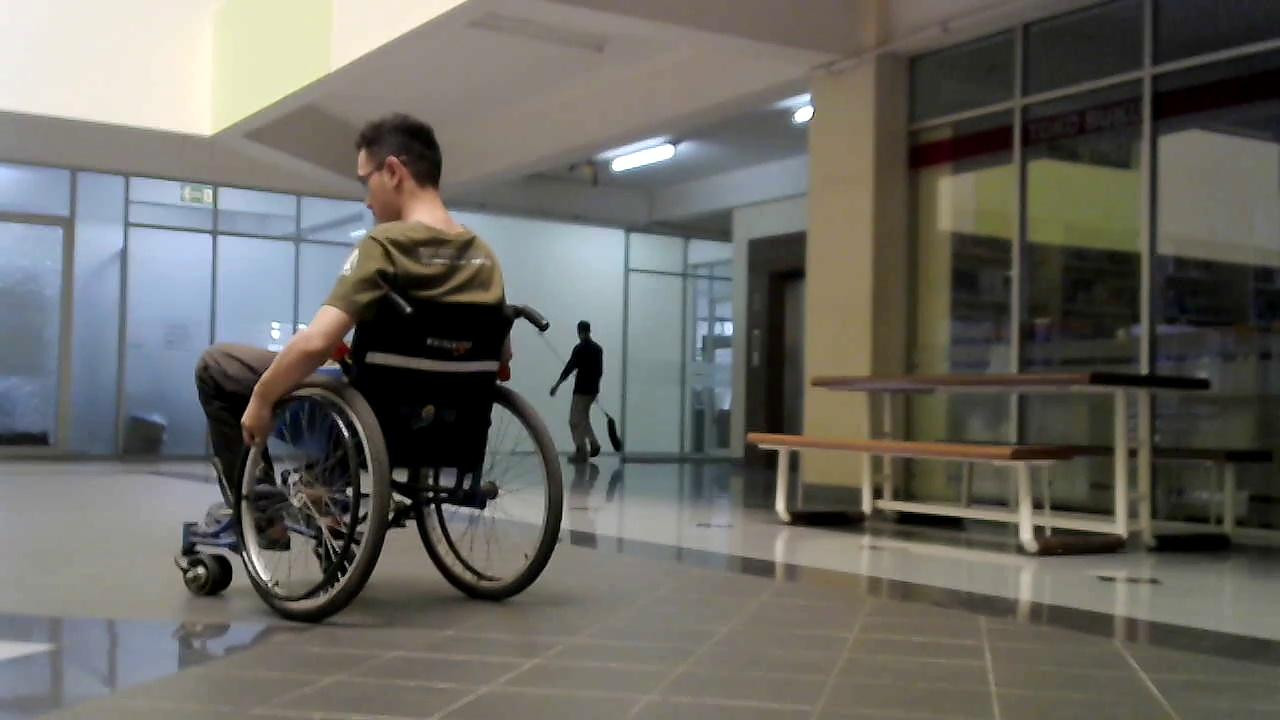person: (183, 113, 534, 583), (546, 320, 603, 470)
wheelchair: (168, 280, 579, 630)
